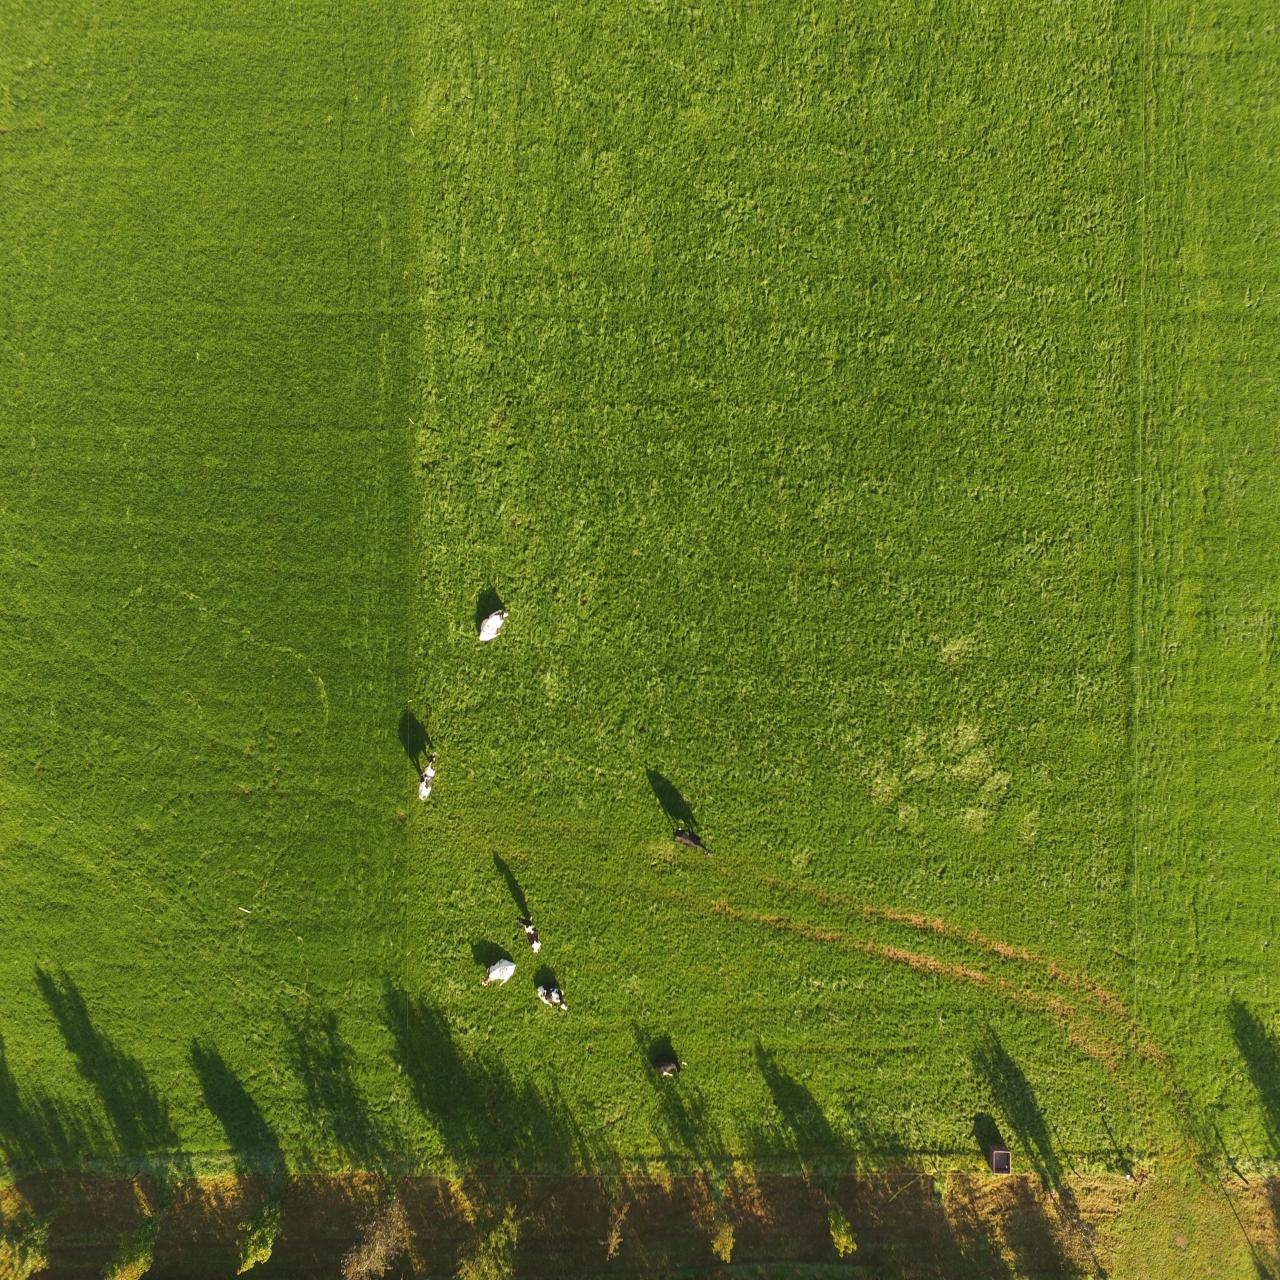cow: (667, 818, 716, 863), (411, 749, 445, 810), (475, 602, 512, 658), (652, 1044, 693, 1091), (533, 975, 565, 1020), (484, 952, 516, 993), (519, 914, 539, 953)
